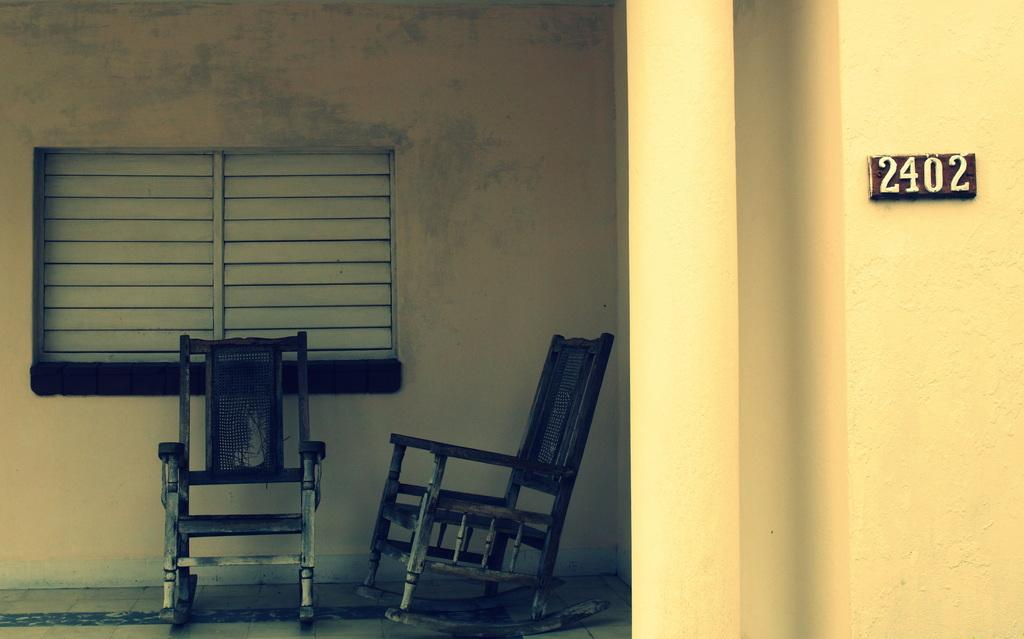Chair: (367, 351, 617, 639), (157, 330, 326, 626)
